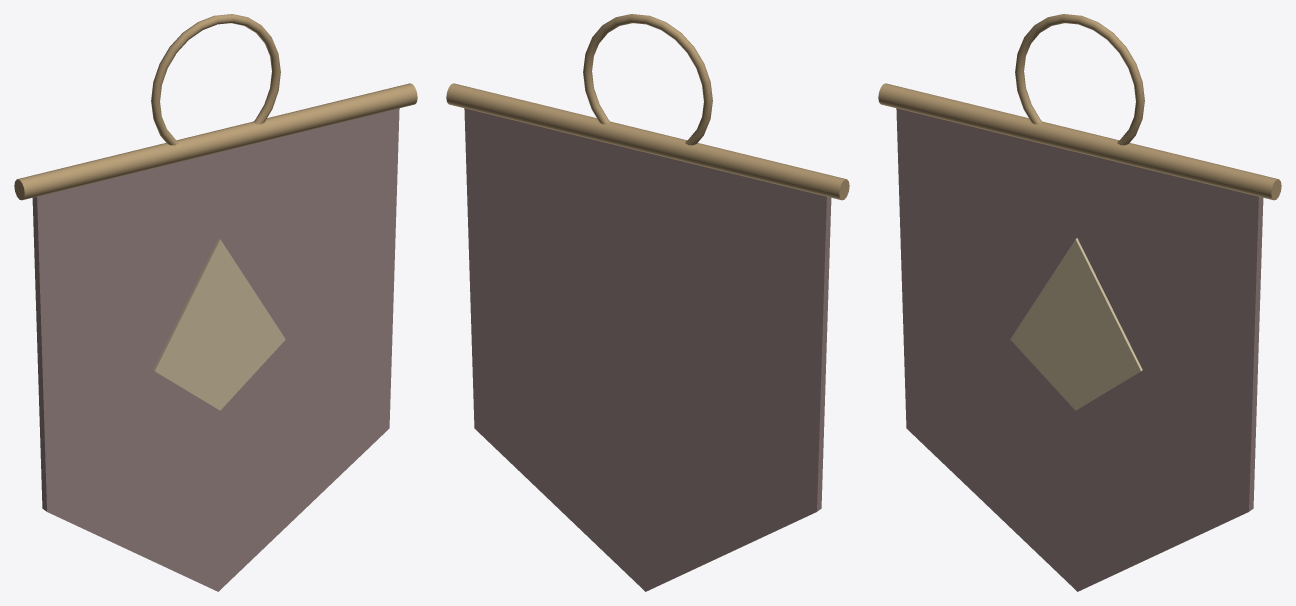
Rendered from pennant.glb.
3 renders of one model, left to right at view 1: azimuth 30°, elevation 25°; view 2: azimuth 150°, elevation 25°; view 3: azimuth 330°, elevation 25°, orthographic.
Visible parts, largest first — view 1: closed-fabric-pennant, stitched-emblem, receiving-banner-rod, hanging-loop; view 2: closed-fabric-pennant, receiving-banner-rod, hanging-loop; view 3: closed-fabric-pennant, stitched-emblem, receiving-banner-rod, hanging-loop.
Boxes of the visible parts, bbox=[...] form: closed-fabric-pennant: bbox=[32, 108, 399, 591]; stitched-emblem: bbox=[153, 238, 285, 410]; receiving-banner-rod: bbox=[14, 83, 417, 200]; hanging-loop: bbox=[151, 14, 280, 145]; closed-fabric-pennant: bbox=[464, 108, 831, 591]; receiving-banner-rod: bbox=[446, 83, 849, 200]; hanging-loop: bbox=[583, 14, 712, 145]; closed-fabric-pennant: bbox=[896, 108, 1263, 591]; stitched-emblem: bbox=[1010, 238, 1142, 410]; receiving-banner-rod: bbox=[878, 83, 1281, 200]; hanging-loop: bbox=[1015, 14, 1144, 145].
Bounding box in the file's own units: 0.78 × 1.09 × 0.036.
